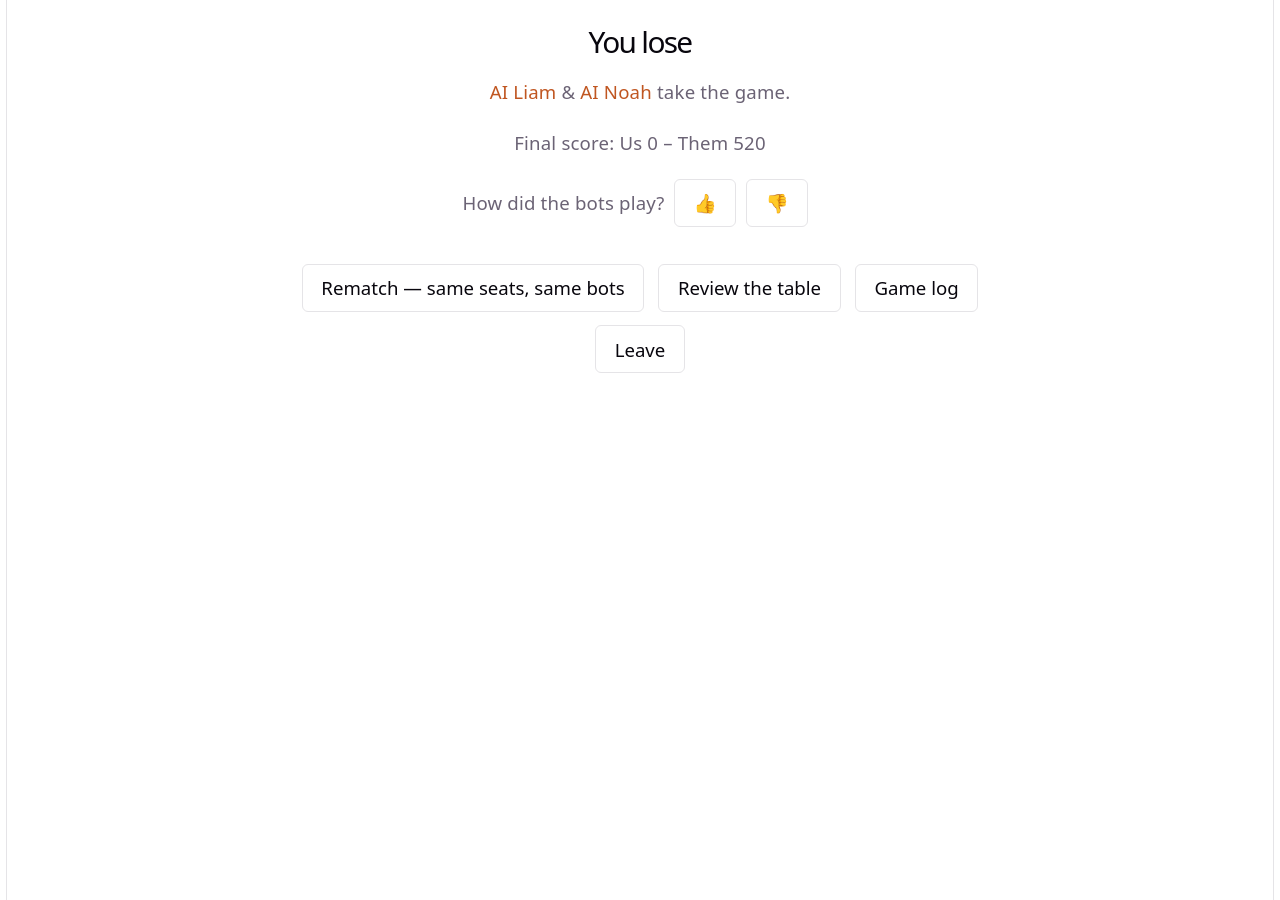
Scenario: GameEnd › red-borders a set hand from its set trick and labels that trick
The image size is (1280, 900).
Click the button with test id "game-end-log": (916, 288) [855,264,978,312]
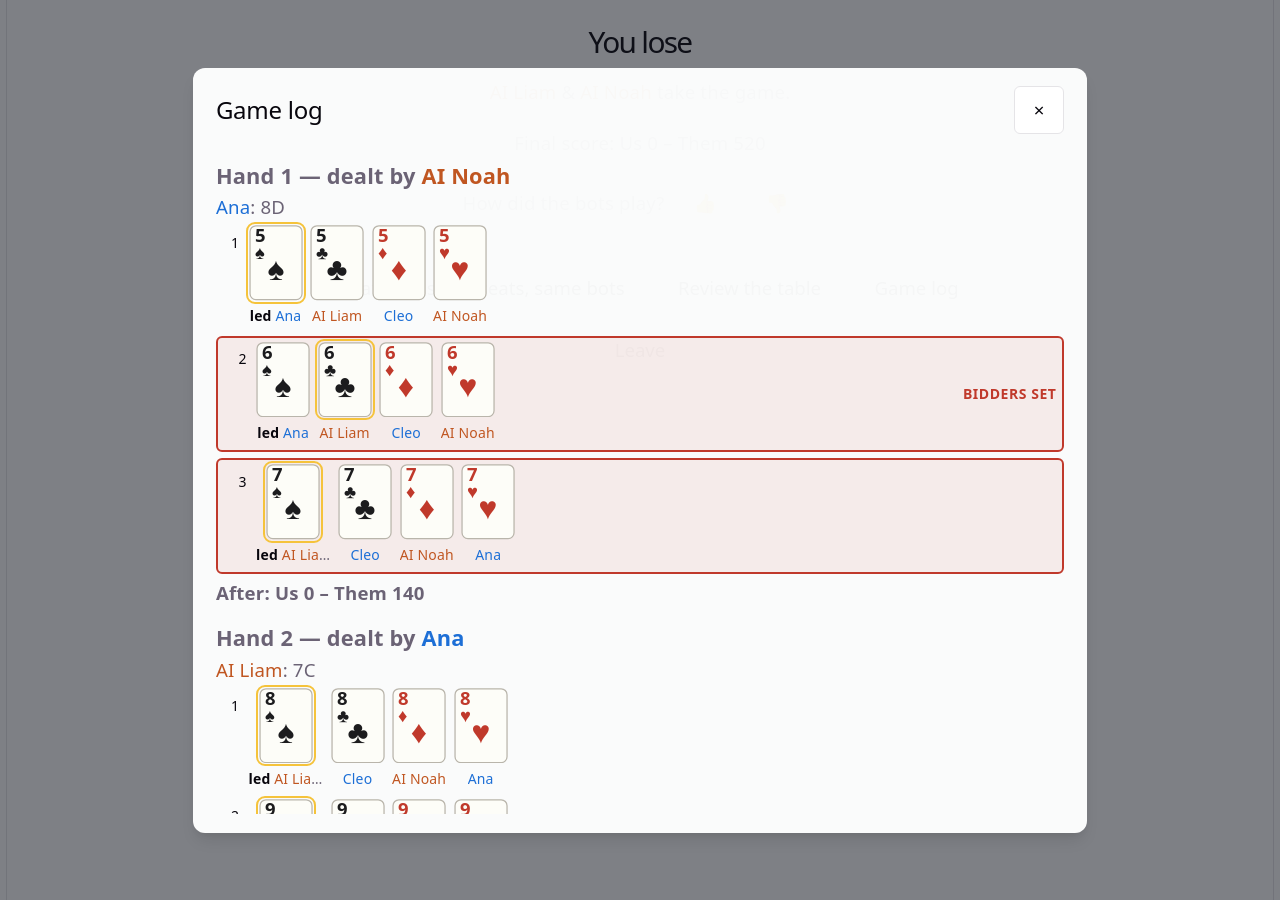
Now the text with test id "game-log-set-label" reads "Bidders Set", box [963,384,1056,403]
